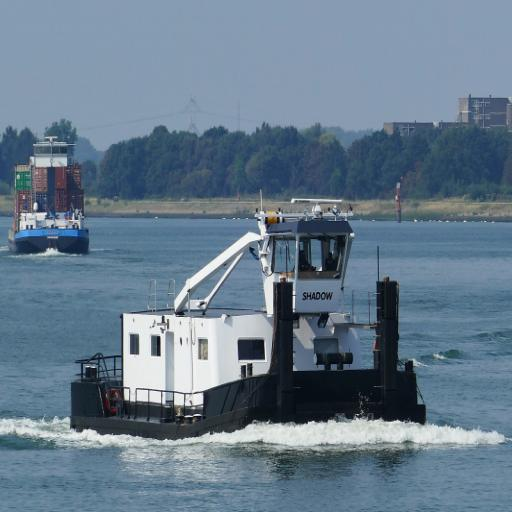tugboat: (67, 191, 432, 450)
